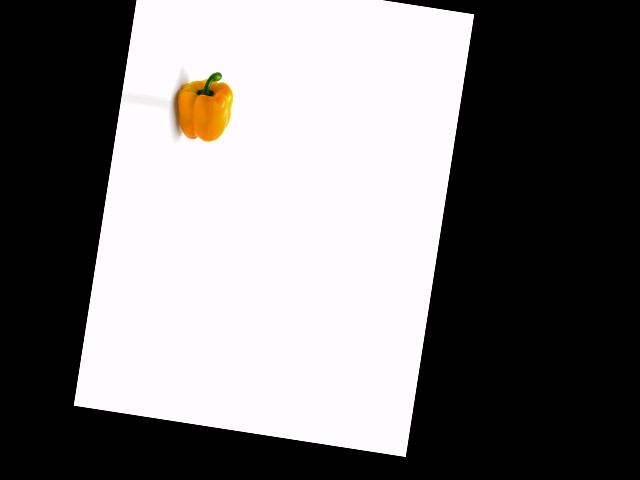bell_pepper: (171, 61, 240, 147)
